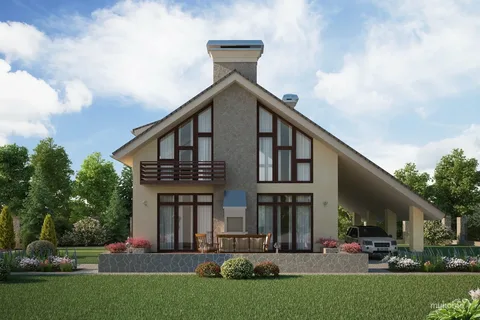private_hause: (129, 60, 360, 254)
